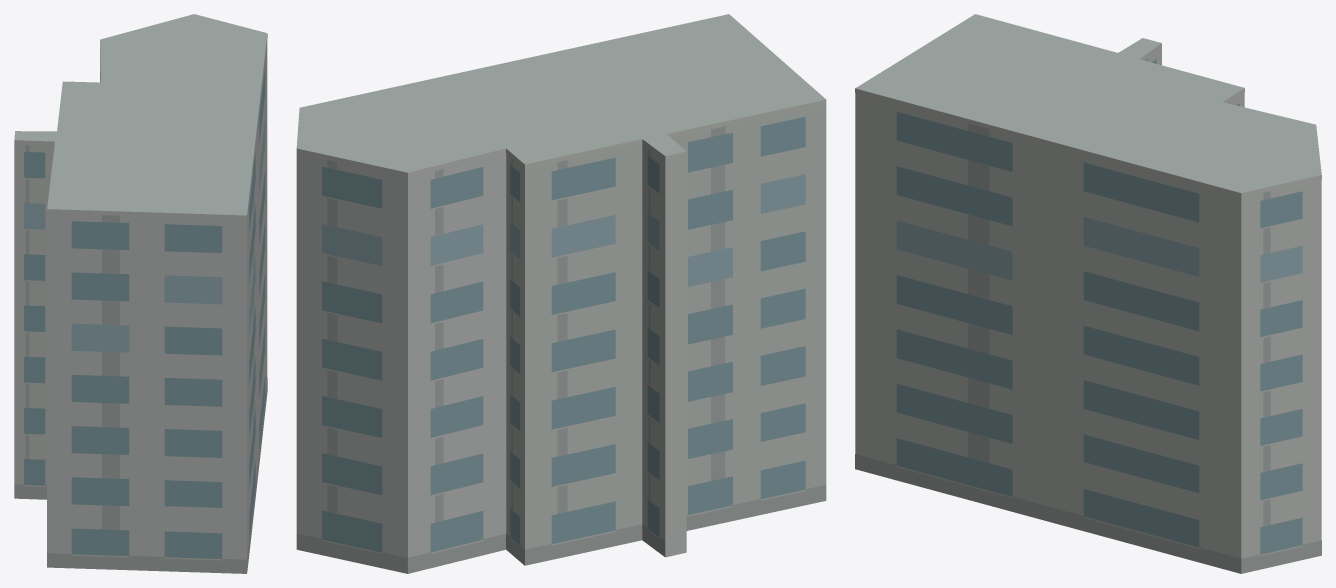
File: survey-upis-32872804.glb
3 views of the same model, side by side, from view 1: azimuth 30°, elevation 25°; view 2: azimuth 150°, elevation 25°; view 3: azimuth 270°, elevation 25° (orthographic). The views are drawn at different scales.
Visible parts, largest first — view 1: survey-upis-32872804.tmp; view 2: survey-upis-32872804.tmp; view 3: survey-upis-32872804.tmp.
Boxes of the visible parts, left/top/right/bottom form: survey-upis-32872804.tmp: left=14, top=14, right=267, bottom=573; survey-upis-32872804.tmp: left=296, top=14, right=826, bottom=573; survey-upis-32872804.tmp: left=855, top=14, right=1321, bottom=573.
Size of the model in its own units: 20.08 by 19.9 by 22.11.
